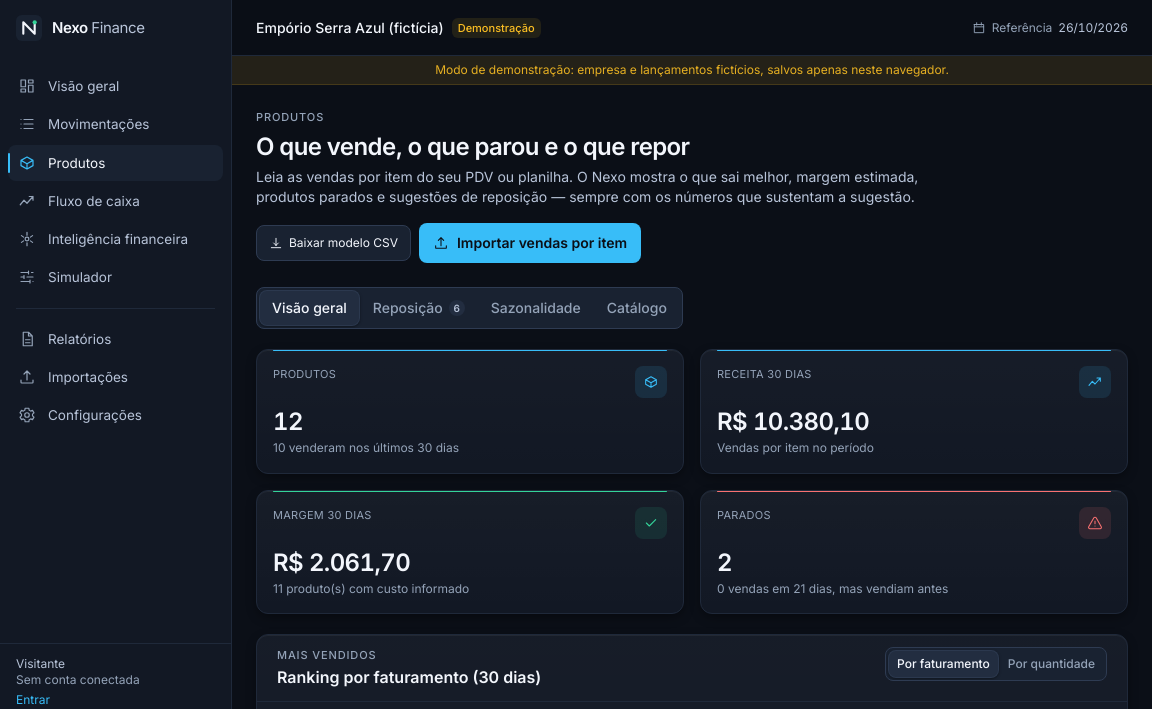
it: navegação › produtos: mostra ranking, catálogo e permite editar um produto
Expected: the heading "O que vende, o que parou e o que repor" is shown, top-left (256, 132), bottom-right (690, 161)
Expected: the heading "Ranking por faturamento (30 dias)" is shown, top-left (277, 665), bottom-right (541, 689)
Click the radio button labelled "Catálogo": (637, 308) top-left (594, 290), bottom-right (680, 326)
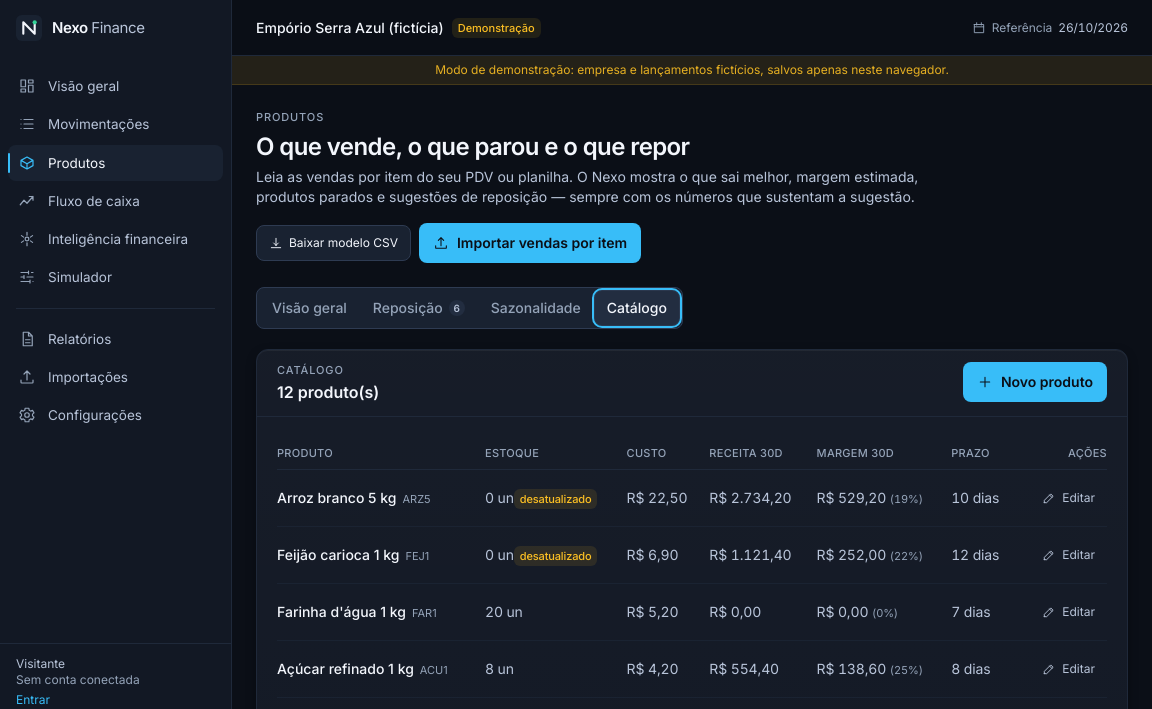
Click the button "Editar" in the row of "Arroz branco 5 kg": (1069, 498) top-left (1030, 480), bottom-right (1107, 516)
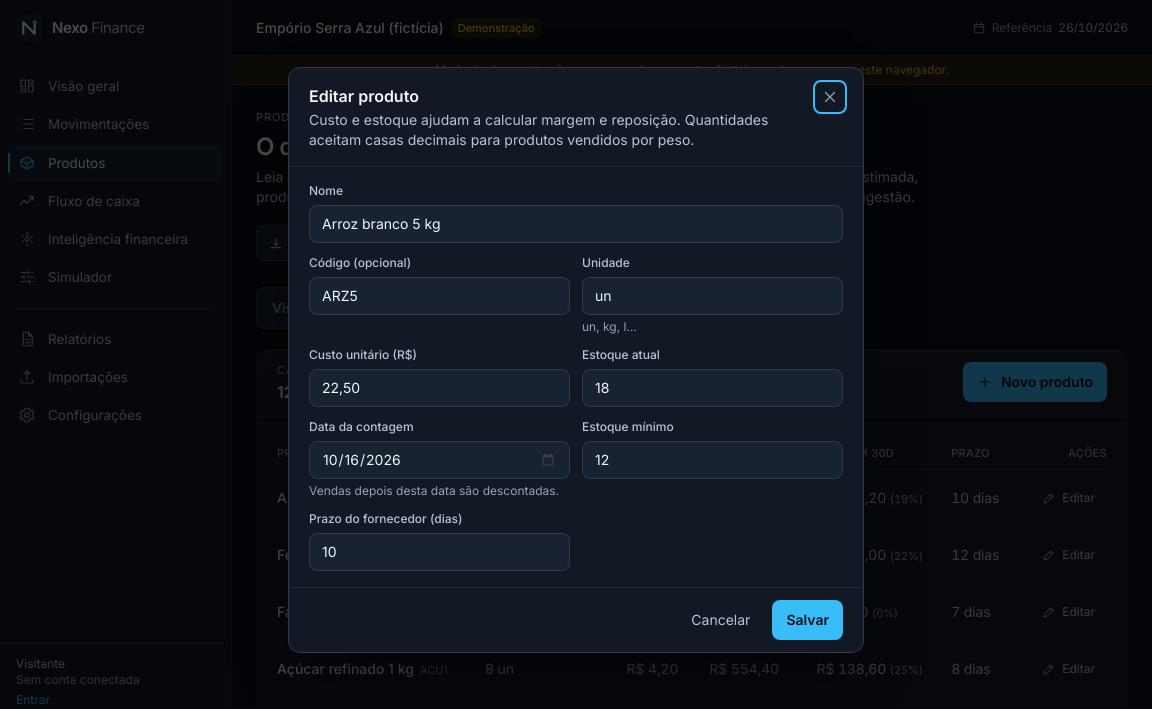
Replace the text in the field labelled "Nome" with "Arroz premium 5 kg": (576, 224) top-left (309, 205), bottom-right (843, 243)
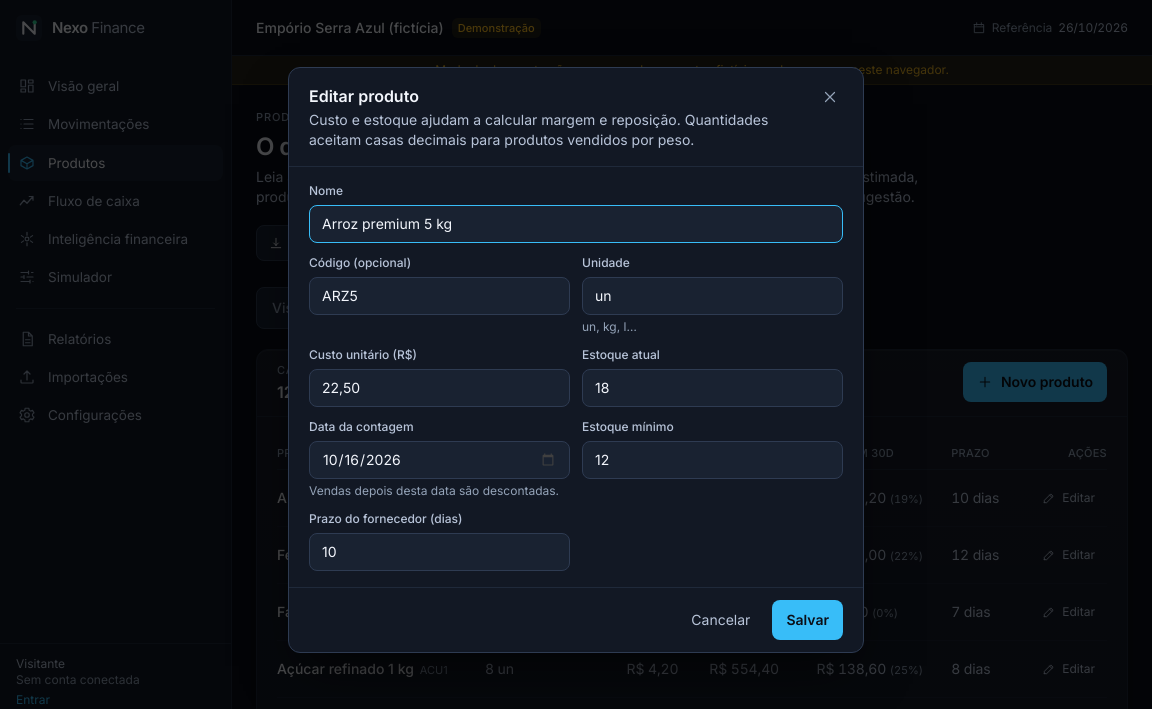
Click the button "Salvar": (808, 620) top-left (772, 600), bottom-right (843, 640)
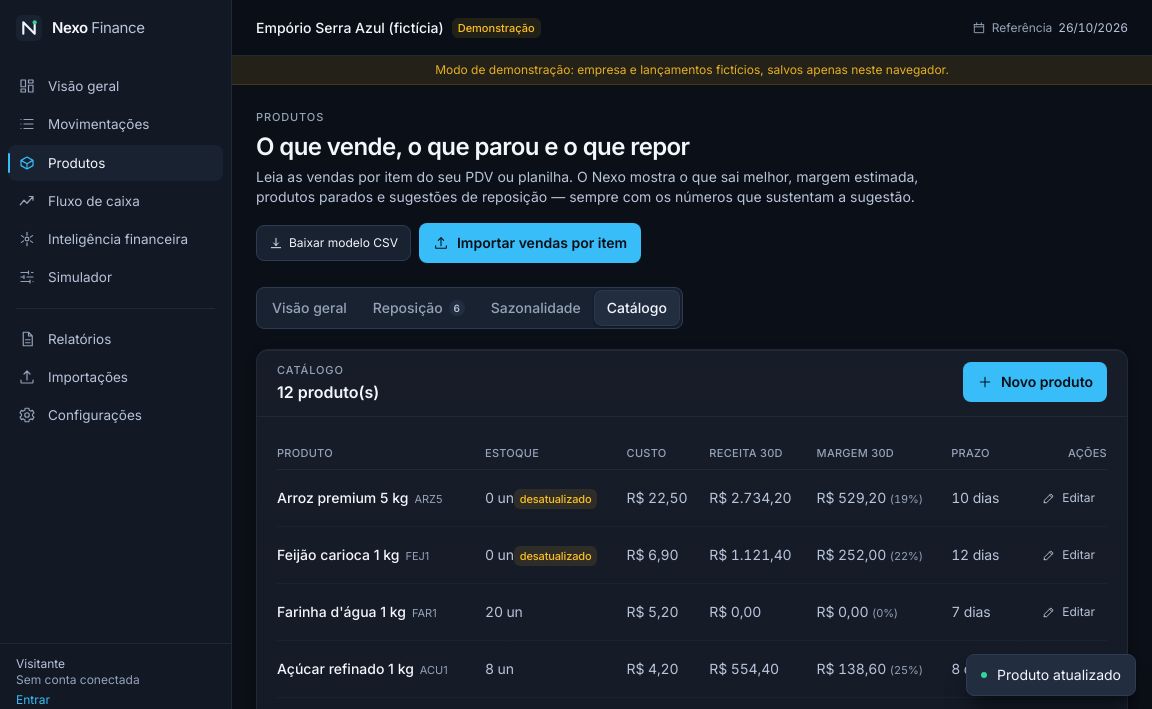
Expected: the text "Produto atualizado" is shown, top-left (966, 654), bottom-right (1136, 696)
